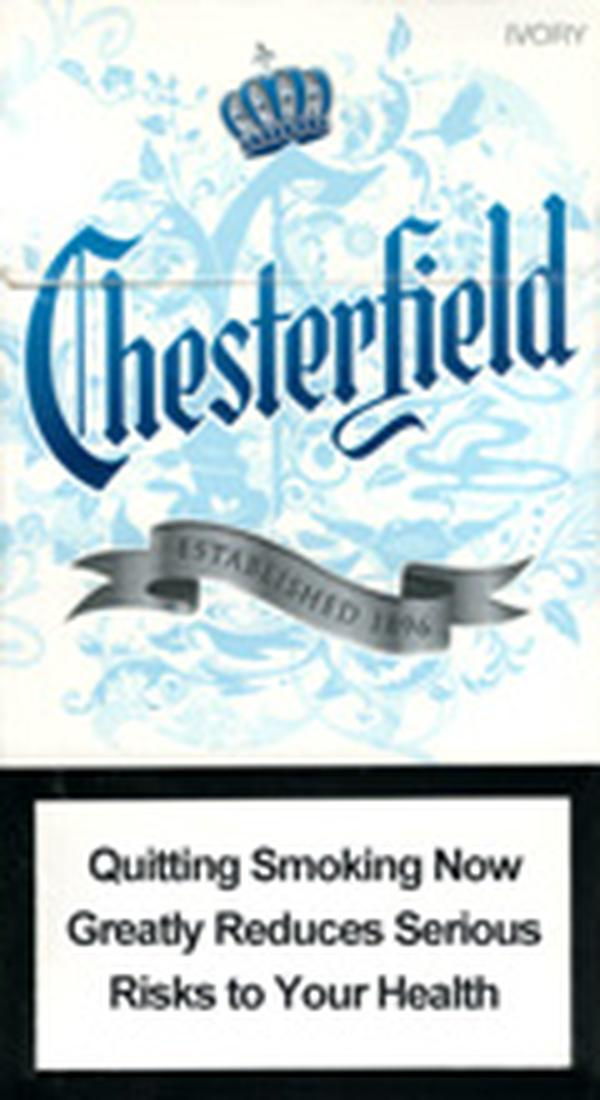chesterfield_blue: (1, 3, 600, 1093)
